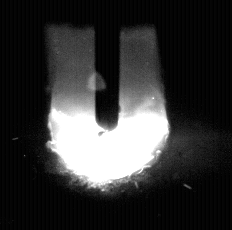arame: (96, 0, 121, 131)
poca: (50, 0, 170, 230)
